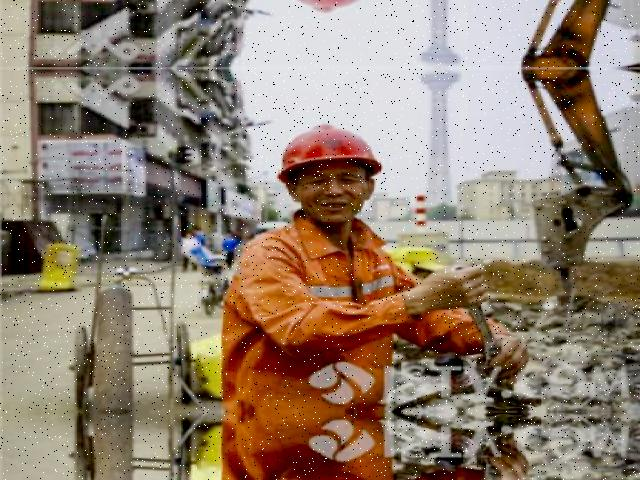Helmet: (270, 117, 390, 188)
